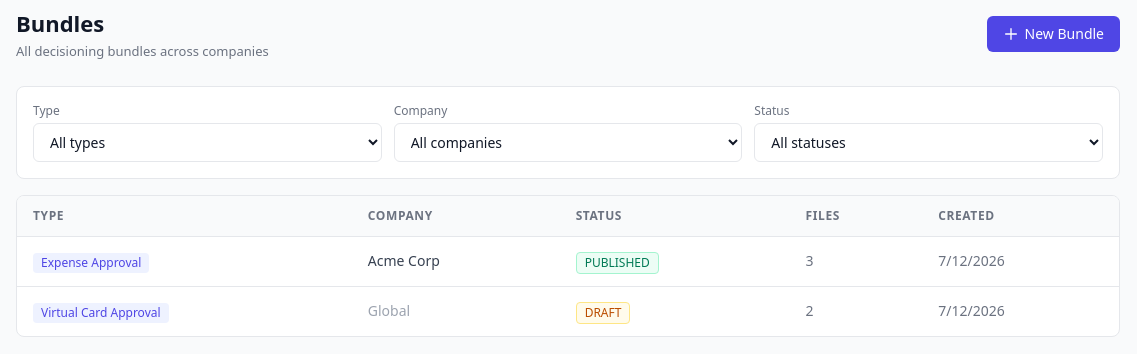
BundleListPage › filters by status when selected
This screenshot has width=1137, height=354.
Expected: the text "PUBLISHED" is shown, x1=576 y1=252 x2=659 y2=274
Select "Draft" in the 3rd dropdown at point(929, 142), box x1=754 y1=122 x2=1103 y2=162
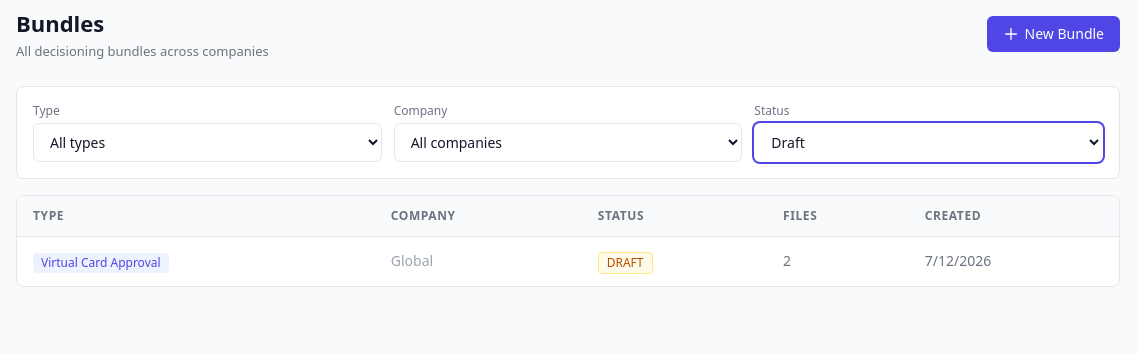
Expected: the text "DRAFT" is shown, x1=598 y1=252 x2=652 y2=274
Result: the text "PUBLISHED" is gone
